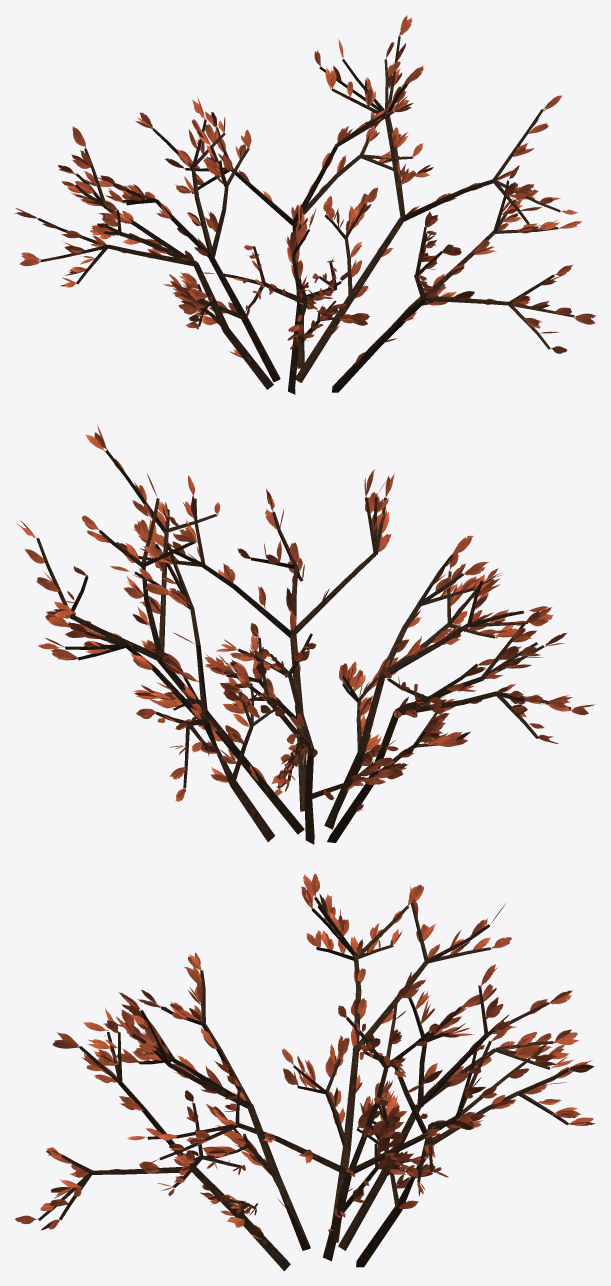
File: sumac_scrub_v02_LOD1.glb
3 renders of one model, top to bottom at view 1: azimuth 30°, elevation 25°; view 2: azimuth 150°, elevation 25°; view 3: azimuth 270°, elevation 25°, orthographic. The views are drawn at different scales.
Parts seen in each view (by area): view 1: sumac_scrub_v02_LOD1; view 2: sumac_scrub_v02_LOD1; view 3: sumac_scrub_v02_LOD1.
Part boxes in pixels (box(x1,y1,x2,y2)): sumac_scrub_v02_LOD1: box(14, 15, 595, 394); sumac_scrub_v02_LOD1: box(16, 425, 594, 844); sumac_scrub_v02_LOD1: box(15, 874, 595, 1271).
Bounding box in the file's own units: 3.96 × 2.26 × 3.63.
2 materials, 2 textured.
